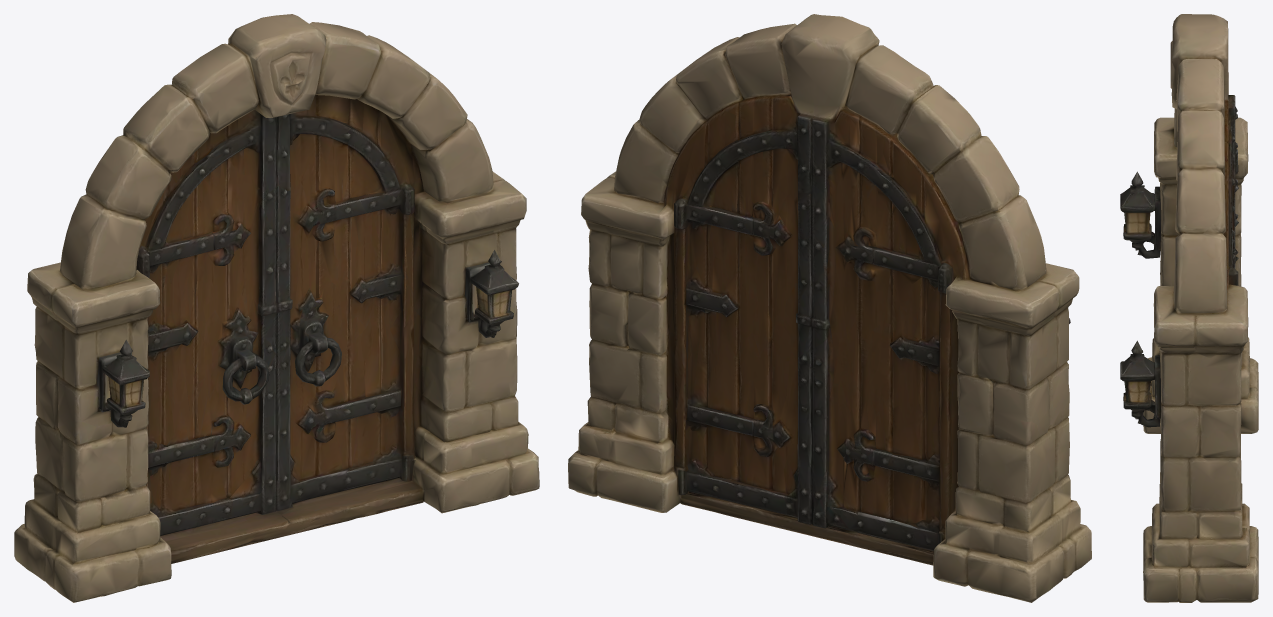
Rendered from mod_door_c.glb.
3 renders of one model, left to right at view 1: azimuth 30°, elevation 25°; view 2: azimuth 150°, elevation 25°; view 3: azimuth 270°, elevation 25°, orthographic. The views are drawn at different scales.
Visible parts, largest first — view 1: tripo_node_b7fdf179-9370-4092-b14c-b3e3be84e0d9; view 2: tripo_node_b7fdf179-9370-4092-b14c-b3e3be84e0d9; view 3: tripo_node_b7fdf179-9370-4092-b14c-b3e3be84e0d9.
Part boxes in pixels (box(x1,y1,x2,y2)): tripo_node_b7fdf179-9370-4092-b14c-b3e3be84e0d9: box(14, 14, 539, 602); tripo_node_b7fdf179-9370-4092-b14c-b3e3be84e0d9: box(568, 14, 1091, 602); tripo_node_b7fdf179-9370-4092-b14c-b3e3be84e0d9: box(1120, 14, 1258, 602).
Size of the model in its own units: 0.9586 by 0.9786 by 0.26.
1 material, 1 textured.
